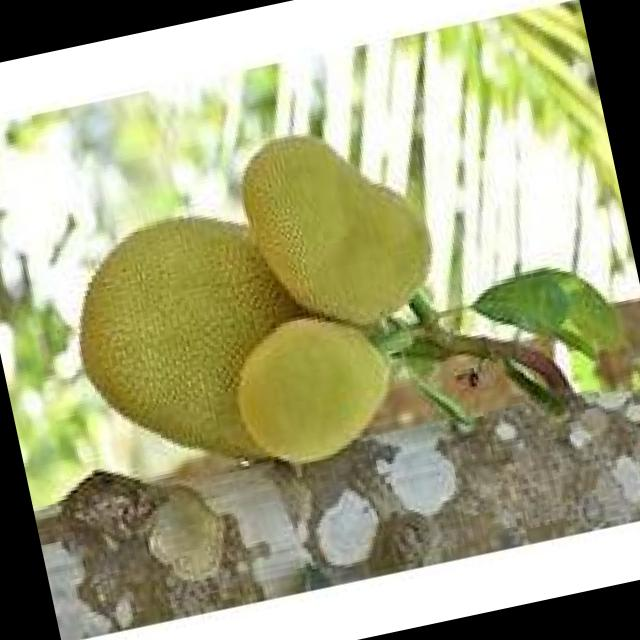Fruit: (20, 148, 408, 524), (198, 73, 468, 370), (210, 284, 422, 487)
